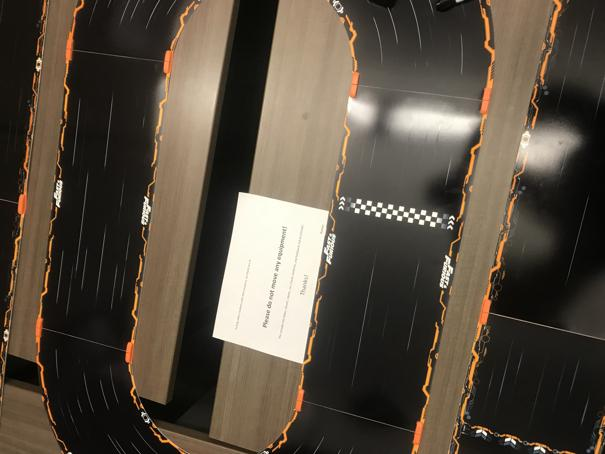Finish Line: (339, 195, 457, 231)
